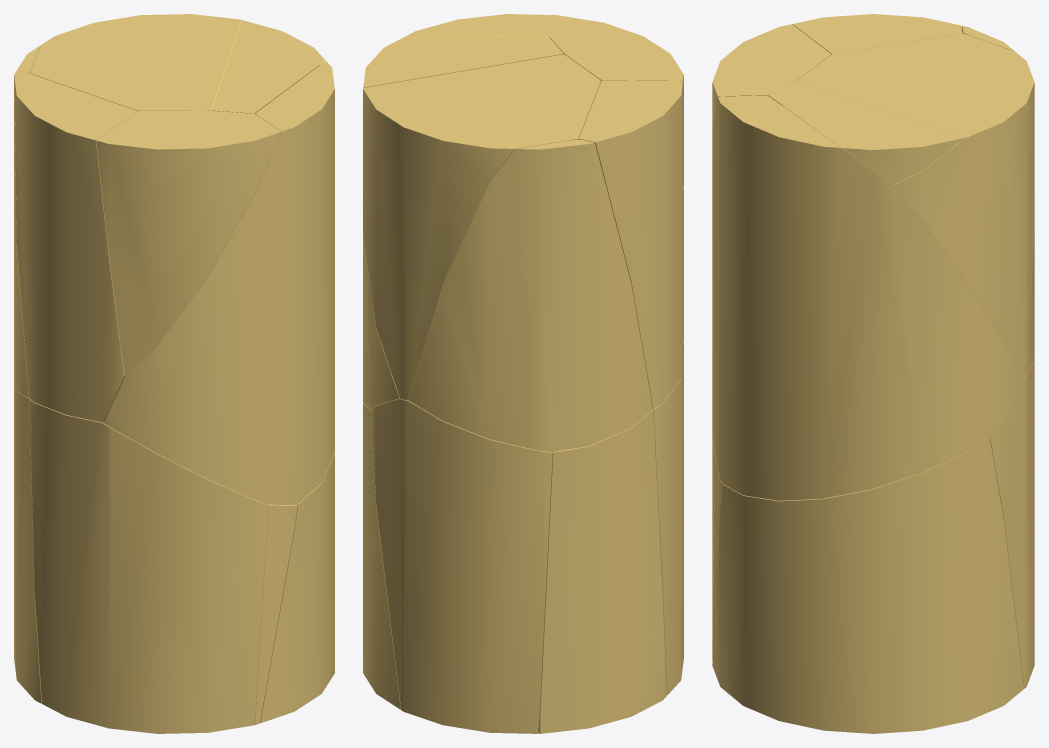
The model's file is Golden Cylinder Broken.fbx.
The picture shows the model from 3 angles, left to right: view 1: azimuth 30°, elevation 25°; view 2: azimuth 150°, elevation 25°; view 3: azimuth 270°, elevation 25°; orthographic projection.
Visible parts, largest first — view 1: Golden_Cylinder_cell.008, Golden_Cylinder_cell.004, Golden_Cylinder_cell.001, Golden_Cylinder_cell.002, Golden_Cylinder_cell.007, Golden_Cylinder_cell.003, Golden_Cylinder_cell.005, Golden_Cylinder_cell.006, Golden_Cylinder_cell.009; view 2: Golden_Cylinder_cell.009, Golden_Cylinder_cell, Golden_Cylinder_cell.007, Golden_Cylinder_cell.005, Golden_Cylinder_cell.001, Golden_Cylinder_cell.008, Golden_Cylinder_cell.006, Golden_Cylinder_cell.003, Golden_Cylinder_cell.002, Golden_Cylinder_cell.004; view 3: Golden_Cylinder_cell.004, Golden_Cylinder_cell.003, Golden_Cylinder_cell.007, Golden_Cylinder_cell.006, Golden_Cylinder_cell, Golden_Cylinder_cell.002, Golden_Cylinder_cell.001, Golden_Cylinder_cell.009, Golden_Cylinder_cell.005.
Part boxes in pixels (x1=…): Golden_Cylinder_cell.008: x1=29, y1=399, x2=268, y2=733; Golden_Cylinder_cell.004: x1=103, y1=61, x2=334, y2=505; Golden_Cylinder_cell.001: x1=14, y1=73, x2=137, y2=422; Golden_Cylinder_cell.002: x1=96, y1=110, x2=281, y2=375; Golden_Cylinder_cell.007: x1=30, y1=14, x2=242, y2=110; Golden_Cylinder_cell.003: x1=260, y1=453, x2=334, y2=723; Golden_Cylinder_cell.005: x1=14, y1=377, x2=297, y2=724; Golden_Cylinder_cell.006: x1=212, y1=20, x2=325, y2=113; Golden_Cylinder_cell.009: x1=14, y1=45, x2=40, y2=397; Golden_Cylinder_cell.009: x1=408, y1=139, x2=652, y2=451; Golden_Cylinder_cell: x1=371, y1=399, x2=552, y2=733; Golden_Cylinder_cell.007: x1=363, y1=54, x2=600, y2=400; Golden_Cylinder_cell.005: x1=538, y1=410, x2=666, y2=733; Golden_Cylinder_cell.001: x1=579, y1=80, x2=683, y2=409; Golden_Cylinder_cell.008: x1=653, y1=357, x2=683, y2=695; Golden_Cylinder_cell.006: x1=363, y1=36, x2=563, y2=87; Golden_Cylinder_cell.003: x1=363, y1=403, x2=400, y2=709; Golden_Cylinder_cell.002: x1=549, y1=17, x2=683, y2=186; Golden_Cylinder_cell.004: x1=363, y1=14, x2=683, y2=409; Golden_Cylinder_cell.004: x1=712, y1=95, x2=1022, y2=500; Golden_Cylinder_cell.003: x1=713, y1=436, x2=1024, y2=733; Golden_Cylinder_cell.007: x1=784, y1=33, x2=1034, y2=378; Golden_Cylinder_cell.006: x1=769, y1=81, x2=964, y2=184; Golden_Cylinder_cell: x1=989, y1=362, x2=1034, y2=688; Golden_Cylinder_cell.002: x1=712, y1=24, x2=831, y2=134; Golden_Cylinder_cell.001: x1=792, y1=14, x2=962, y2=54; Golden_Cylinder_cell.009: x1=961, y1=25, x2=1034, y2=371; Golden_Cylinder_cell.005: x1=712, y1=459, x2=723, y2=668.
Size of the model in its own units: 100 by 200 by 100.
